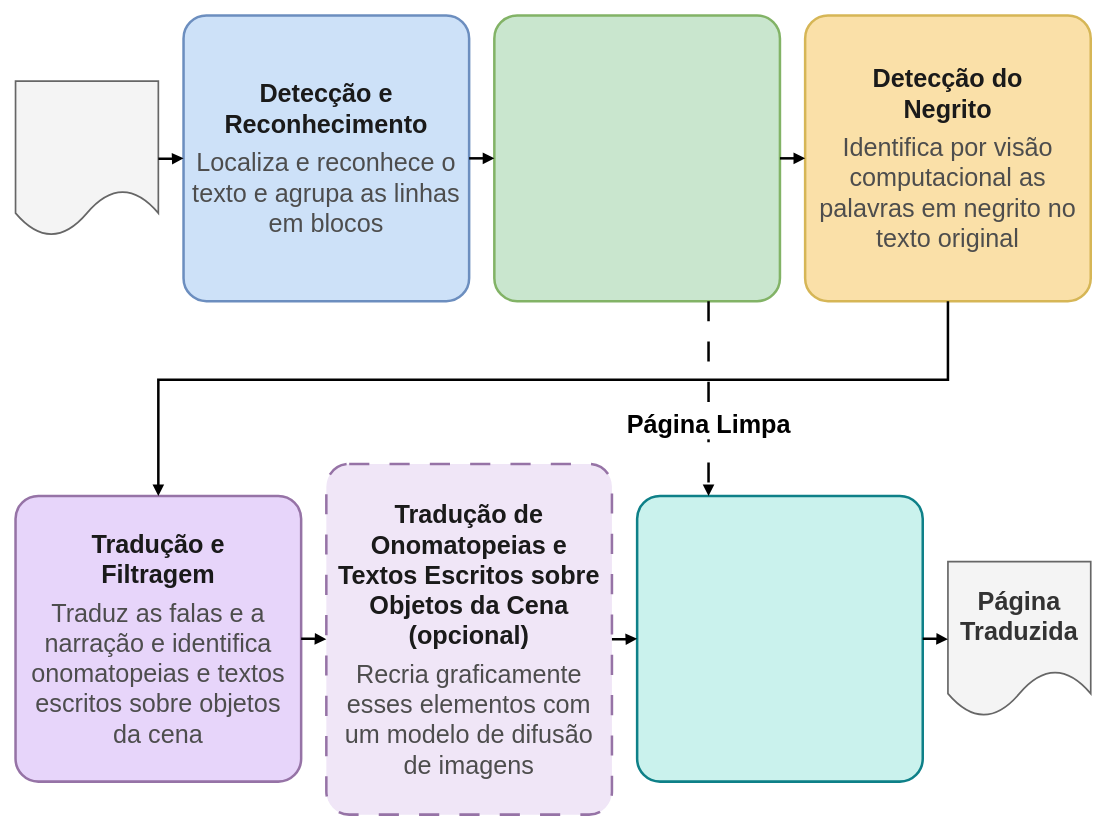
Some shapes in this 1106 by 831 pixel diagram are drawn without their labels. The box of each missing label's shape, as (x1, y1, x2, y2) in pixels:
Inpainting Remove o texto original e reconstrói o fundo da página: (493, 14, 781, 302)
Letreiramento Insere o texto traduzido na página limpa: (635, 494, 924, 782)
Página Original: (14, 80, 159, 237)
